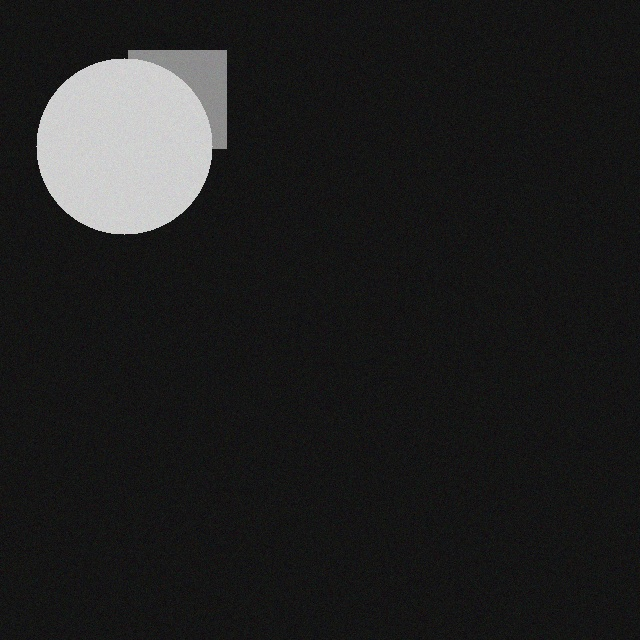circle: (32, 56, 208, 232)
square: (124, 48, 222, 146)
